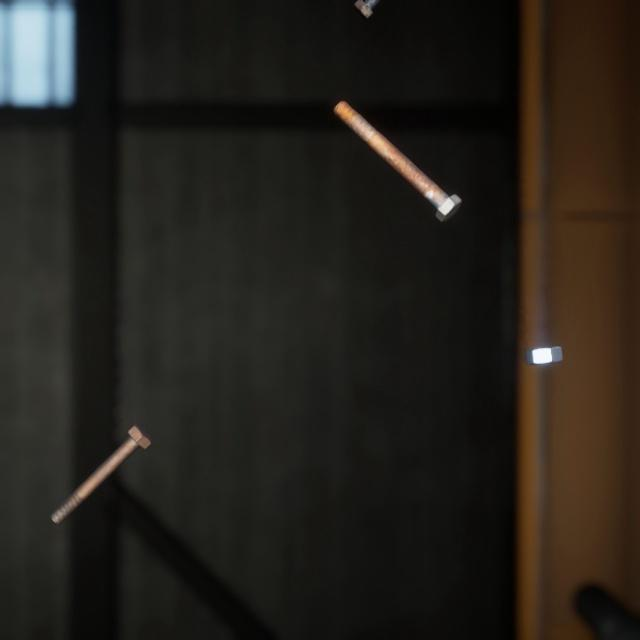bolt: (329, 84, 466, 213), (45, 398, 157, 508)
nut: (521, 323, 567, 350)
